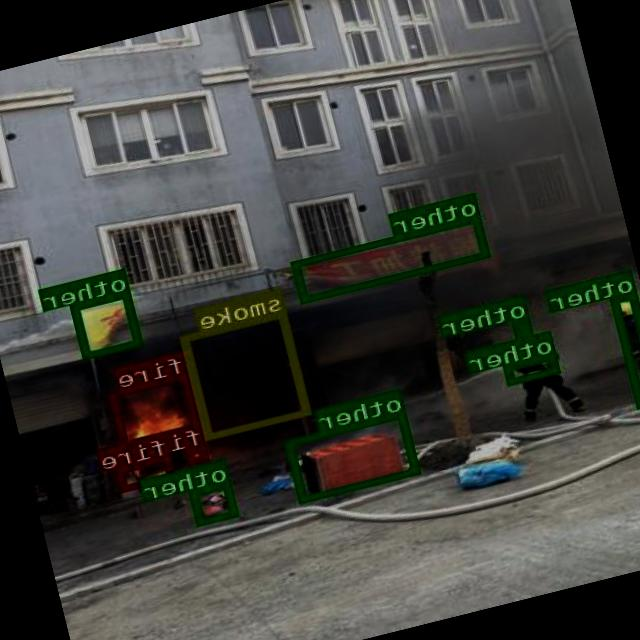fire: (110, 370, 204, 453), (116, 453, 178, 490), (187, 442, 210, 463)
smoke: (181, 308, 312, 439)
